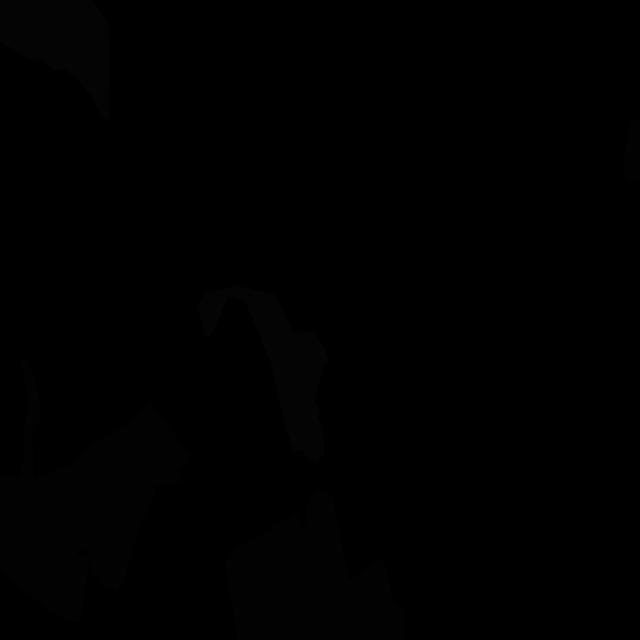cardboard: (0, 358, 111, 623), (225, 490, 405, 640), (84, 401, 189, 596), (623, 118, 640, 184)
soft_plastic: (198, 285, 329, 461)
